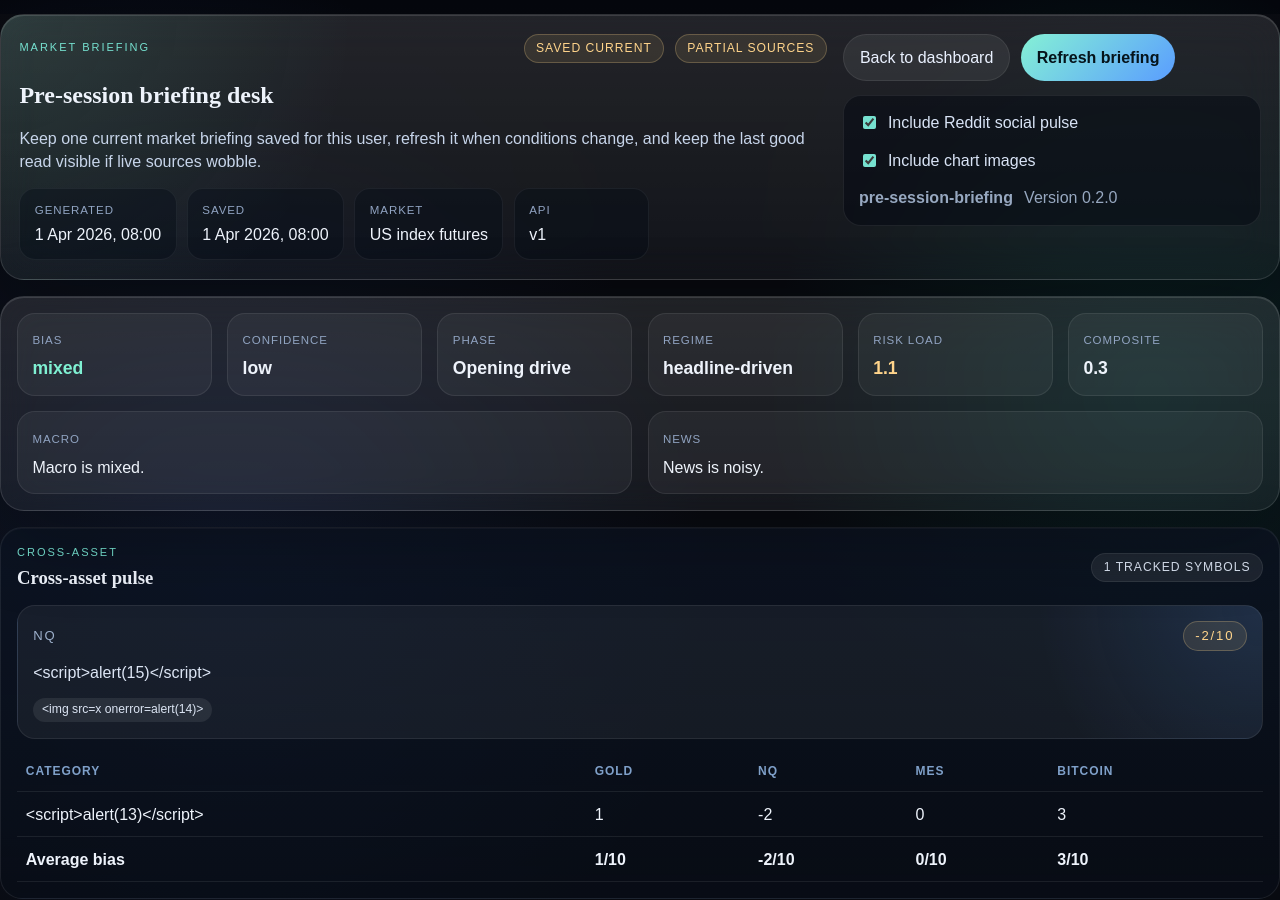
MarketBriefingPage › preserves the last good saved briefing when refresh fails
Click the button "Refresh briefing": (1098, 58) left=1021, top=34, right=1175, bottom=81
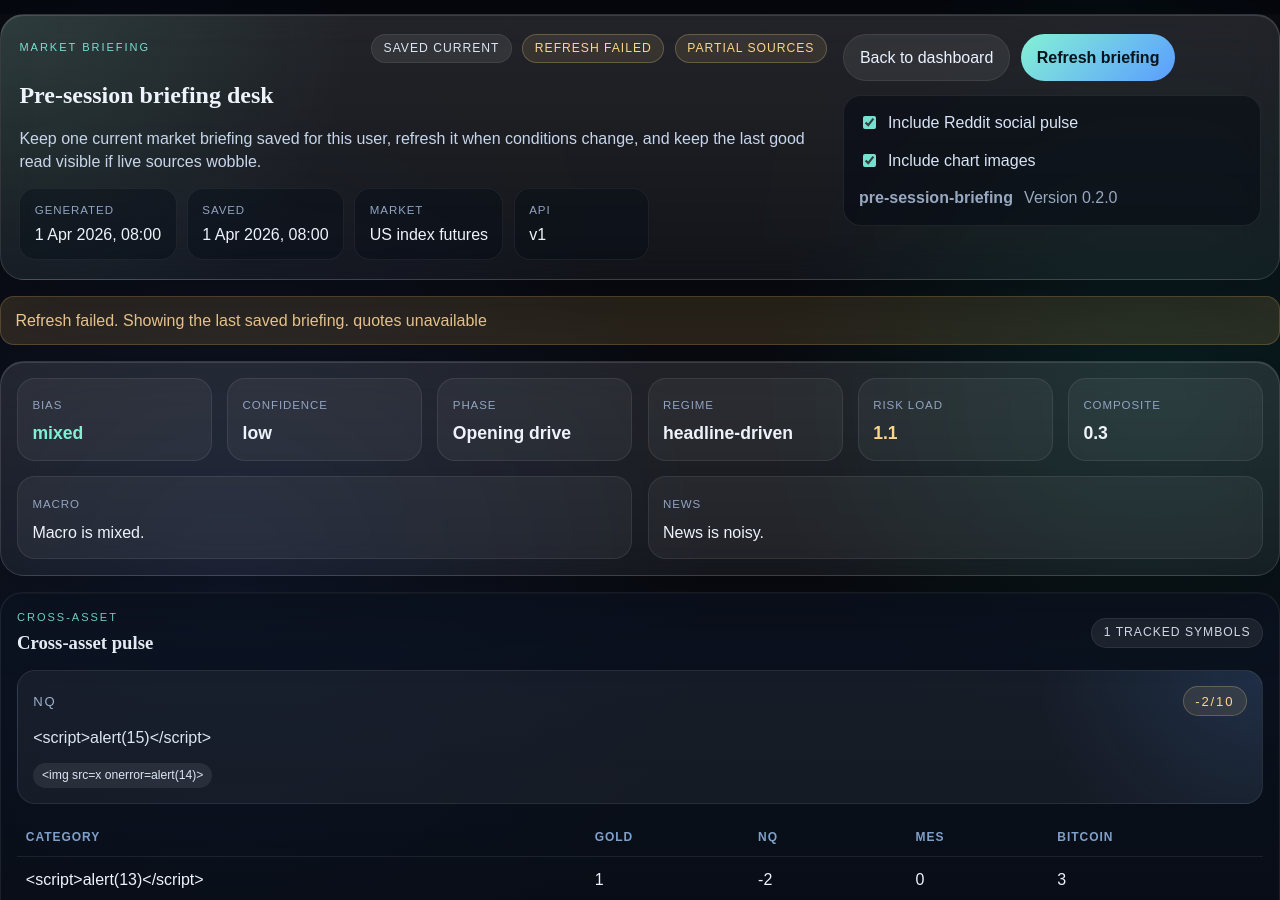
Now the text "Refresh failed. Showing the last saved briefing. quotes unavailable" is shown, box left=0, top=296, right=1279, bottom=345
Now the text "Refresh failed" is shown, box left=522, top=34, right=664, bottom=63
